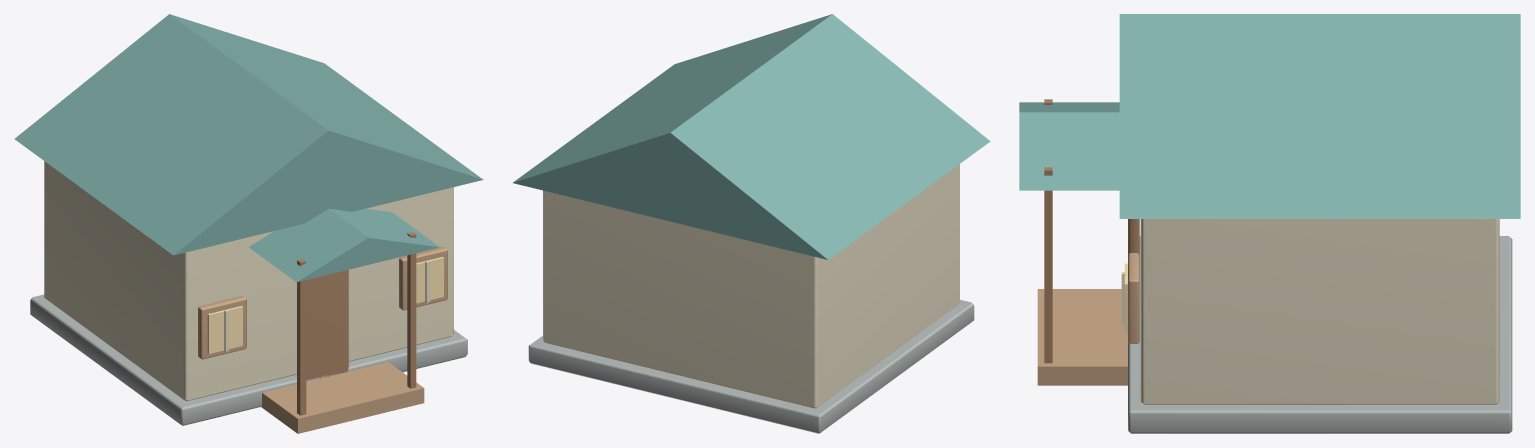
The model's file is lighthouse-keeper-home.glb.
3 views of the same model, side by side, from view 1: azimuth 30°, elevation 25°; view 2: azimuth 150°, elevation 25°; view 3: azimuth 270°, elevation 25° (orthographic). The views are drawn at different scales.
Parts seen in each view (by area): view 1: Keeper home pitched roof, Keeper home walls, Keeper home stone footing, Porch awning, Timber porch, Keeper home front door, Porch post, Porch post.001, Warm pane, Window trim, Window trim.001, Warm pane.001; view 2: Keeper home pitched roof, Keeper home walls, Keeper home stone footing; view 3: Keeper home pitched roof, Keeper home walls, Keeper home stone footing, Porch awning, Timber porch, Porch post.001, Window trim.001.
Boxes of the visible parts, bbox=[...] form: Keeper home pitched roof: bbox=[14, 14, 483, 255]; Keeper home walls: bbox=[44, 161, 453, 401]; Keeper home stone footing: bbox=[30, 294, 467, 425]; Porch awning: bbox=[249, 208, 439, 282]; Timber porch: bbox=[261, 362, 424, 433]; Keeper home front door: bbox=[306, 270, 348, 380]; Porch post: bbox=[297, 259, 306, 415]; Porch post.001: bbox=[407, 232, 416, 388]; Warm pane: bbox=[207, 306, 242, 353]; Window trim: bbox=[198, 296, 246, 359]; Window trim.001: bbox=[399, 247, 447, 310]; Warm pane.001: bbox=[416, 257, 443, 303]; Keeper home pitched roof: bbox=[513, 14, 990, 259]; Keeper home walls: bbox=[543, 164, 959, 408]; Keeper home stone footing: bbox=[528, 299, 974, 433]; Keeper home pitched roof: bbox=[1119, 14, 1520, 218]; Keeper home walls: bbox=[1140, 219, 1499, 404]; Keeper home stone footing: bbox=[1128, 236, 1512, 433]; Porch awning: bbox=[1019, 102, 1119, 190]; Timber porch: bbox=[1037, 289, 1127, 385]; Porch post.001: bbox=[1044, 167, 1052, 363]; Window trim.001: bbox=[1128, 253, 1139, 343].
Size of the model in its own units: 5.4 by 4.4 by 6.
